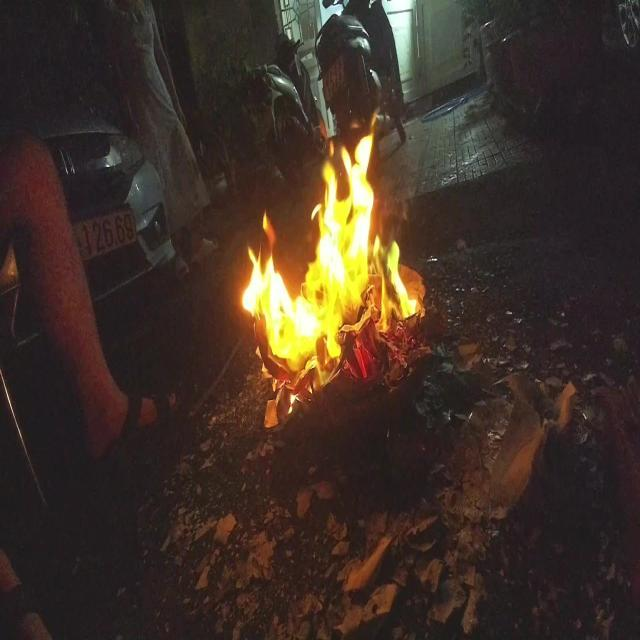Fire: (240, 108, 424, 414)
